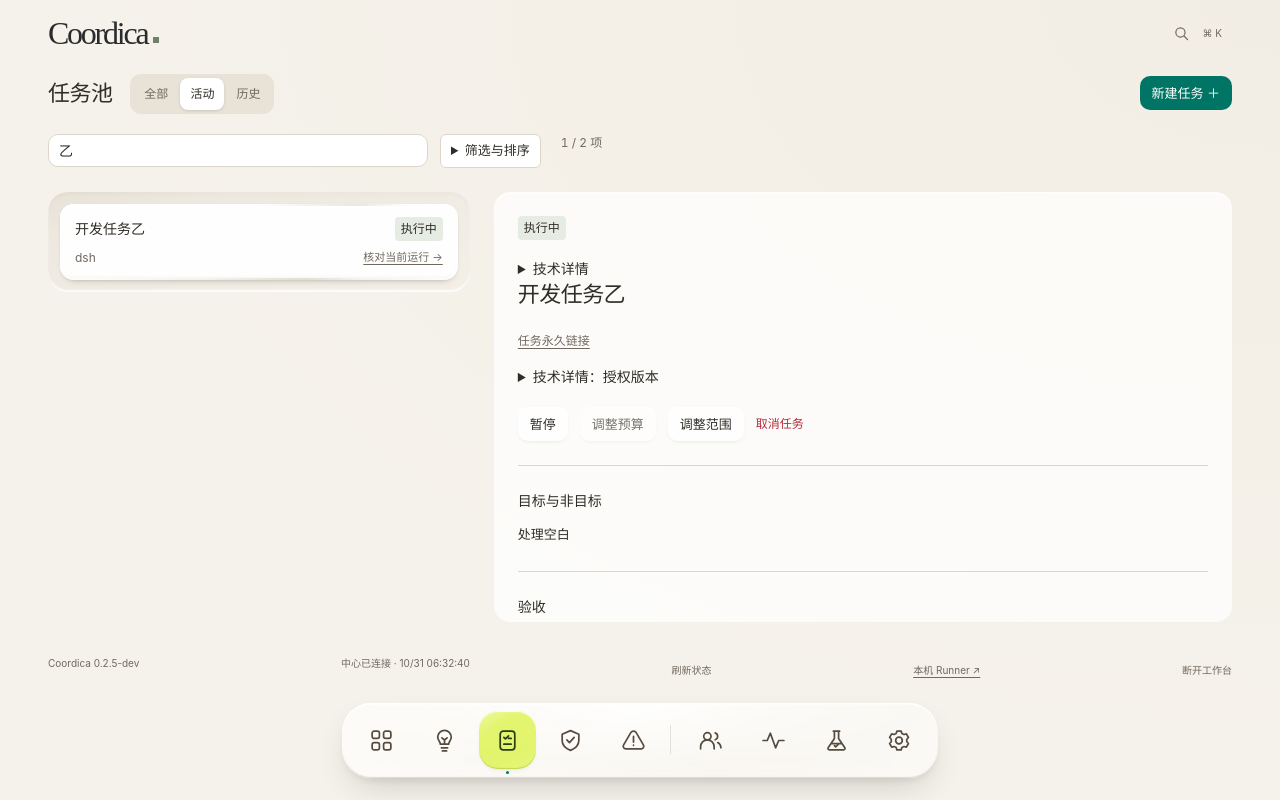
Test: retains task filters and scroll across Dock navigation, including deep-link refresh input
(page scrolled)
Expected: the heading "开发任务乙" is shown, [518,280,625,306]
Expected: the search field named "搜索任务" holds "乙", [48,134,428,167]
What coordinates should you click on to do the following:
click the button named "测试中心"
I would click on:
 (836, 740)
Its box is [810,714,862,766].
(page scrolled)
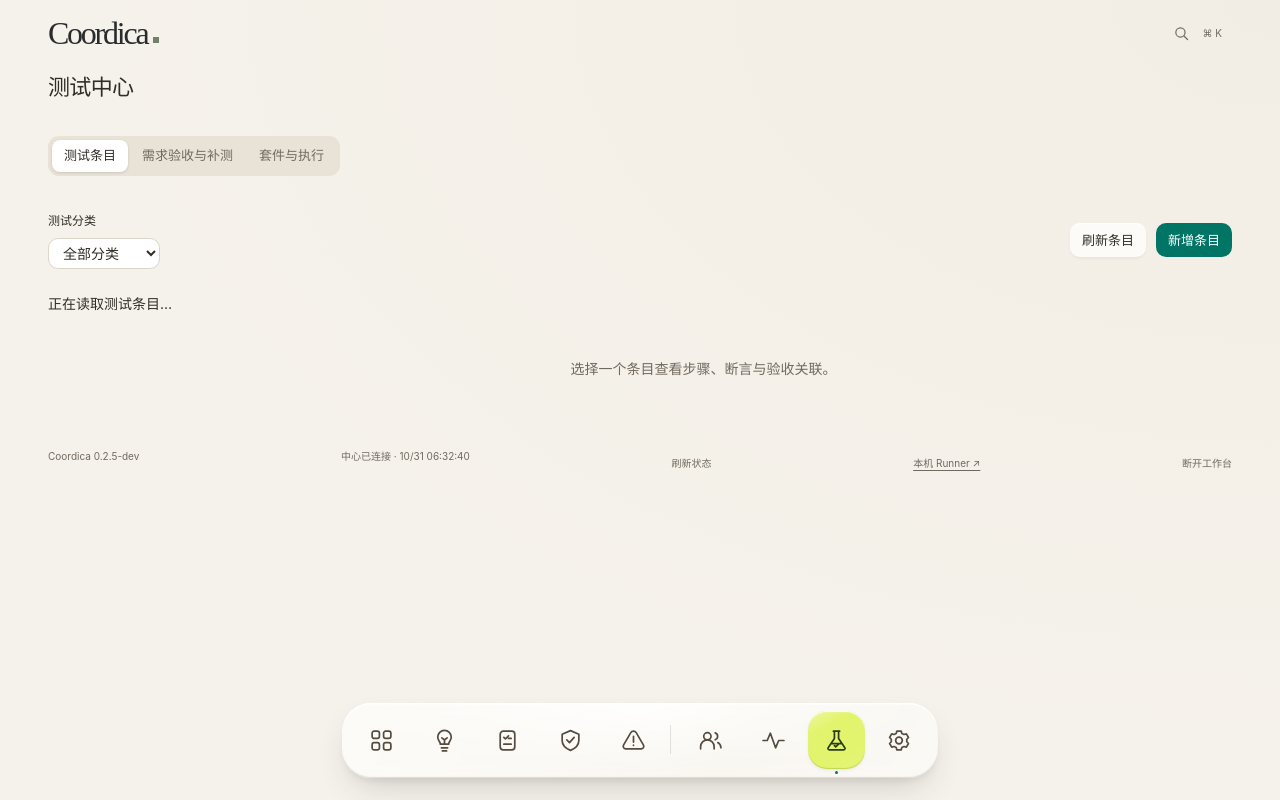
Now the heading "测试中心" is shown, box [48,74,133,102]
What coordinates should you click on to do the following:
click the button named "任务池"
I would click on:
 (507, 740)
Its box is [481,714,533,766].
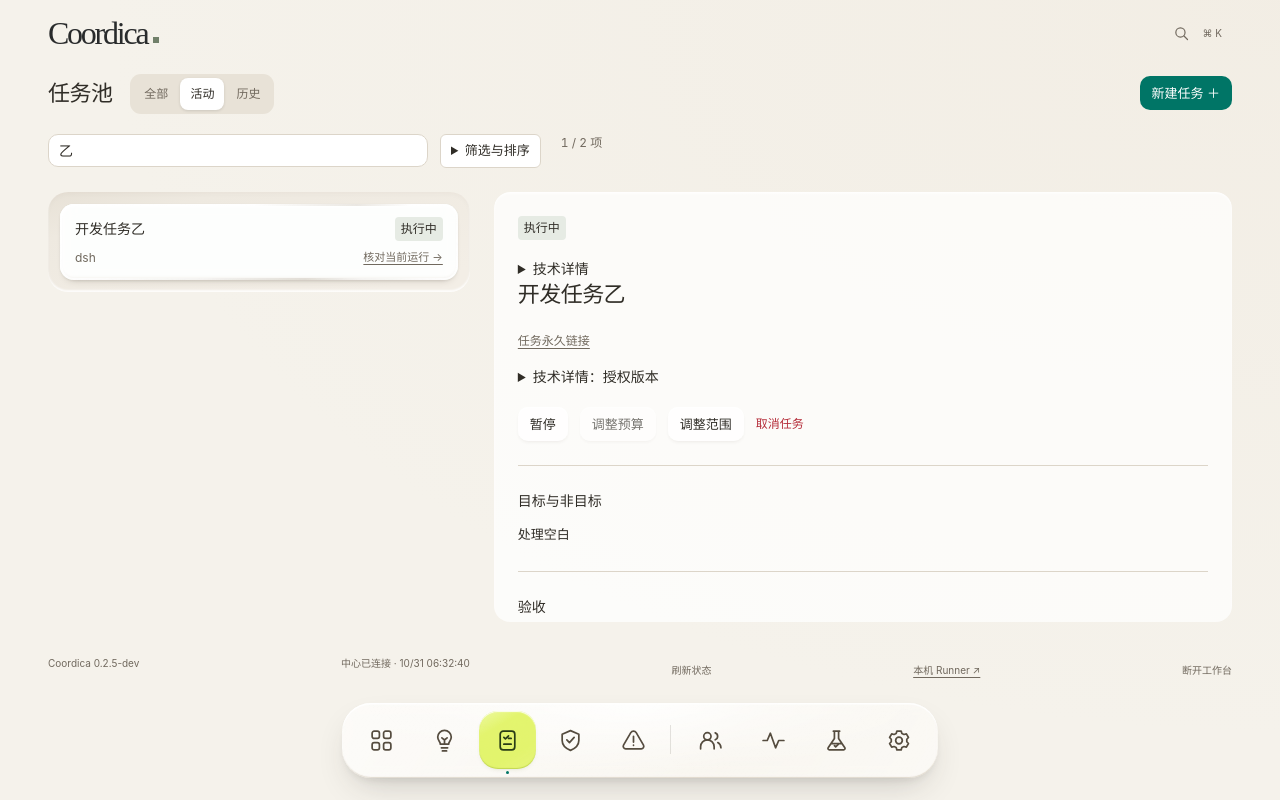
Now the heading "开发任务乙" is shown, box [518,280,625,306]
Now the search field named "搜索任务" holds "乙", box [48,134,428,167]
